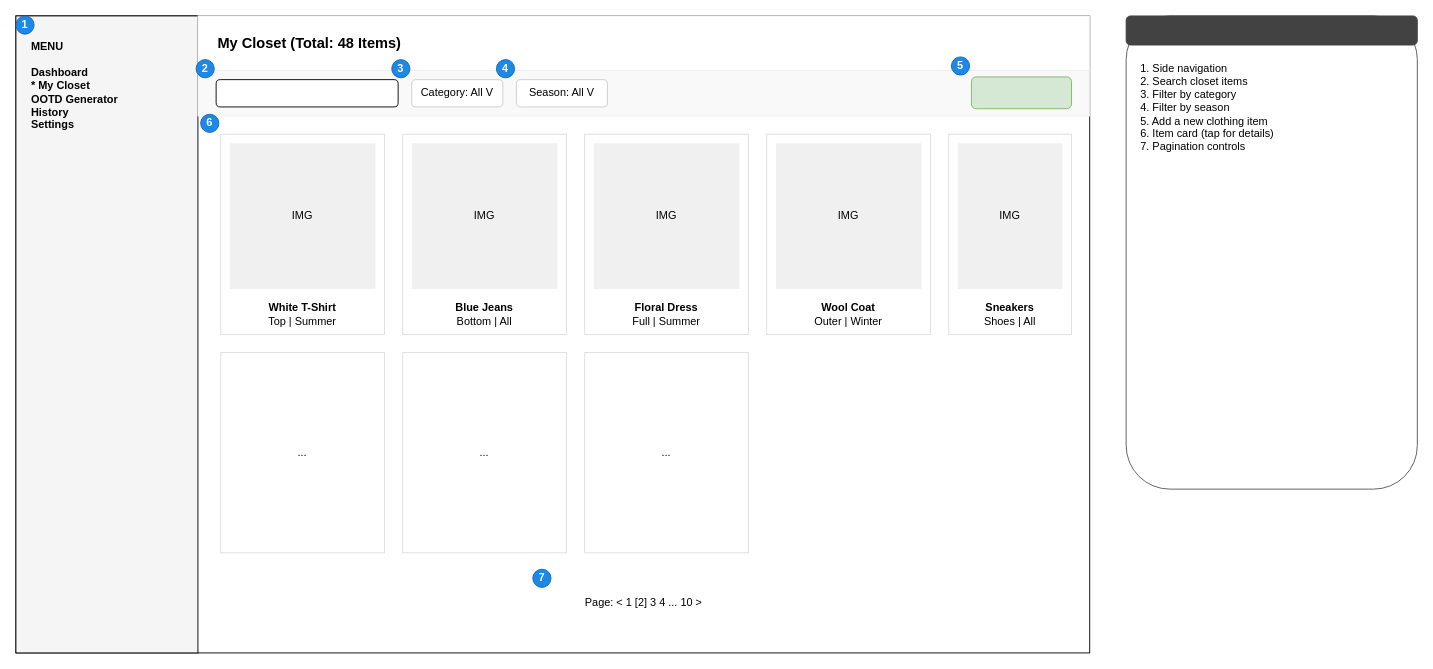
The diagram is 1433 pixels wide and 669 high, and some of its shapes have lost their labels. The shapes that lost their labels are listed below. From the top down, each one's centre as x and y in pixels, then its label:
At pixel 1271 30: "Annotated Notes".
At pixel 306 93: "Search items...".
At pixel 1021 92: "+ Add Item".
